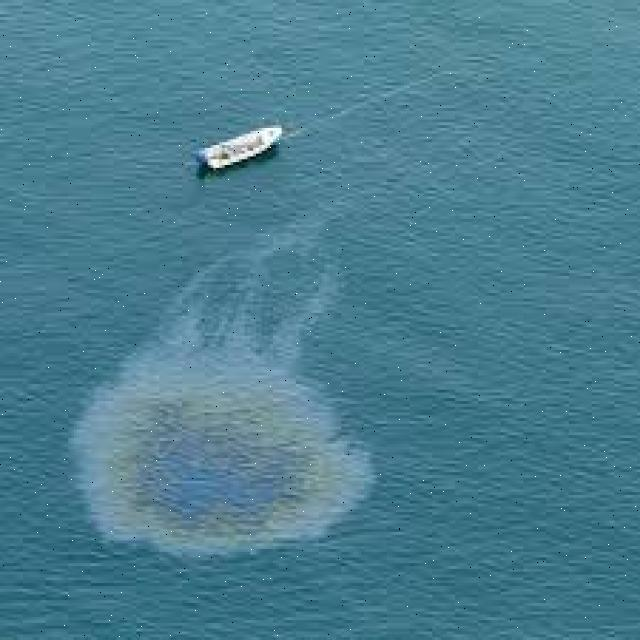sheen: (77, 250, 373, 559)
